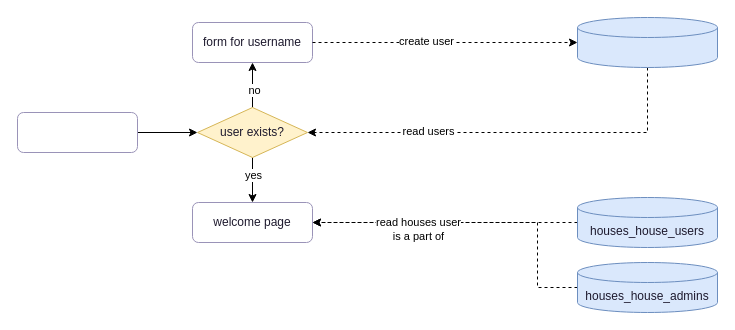
Some shapes in this 735 by 330 pixel diagram are drawn without their labels. Each missing label, with the centre of its shape:
"user logs in" goes at point 77,132.
"users" goes at point 647,42.
